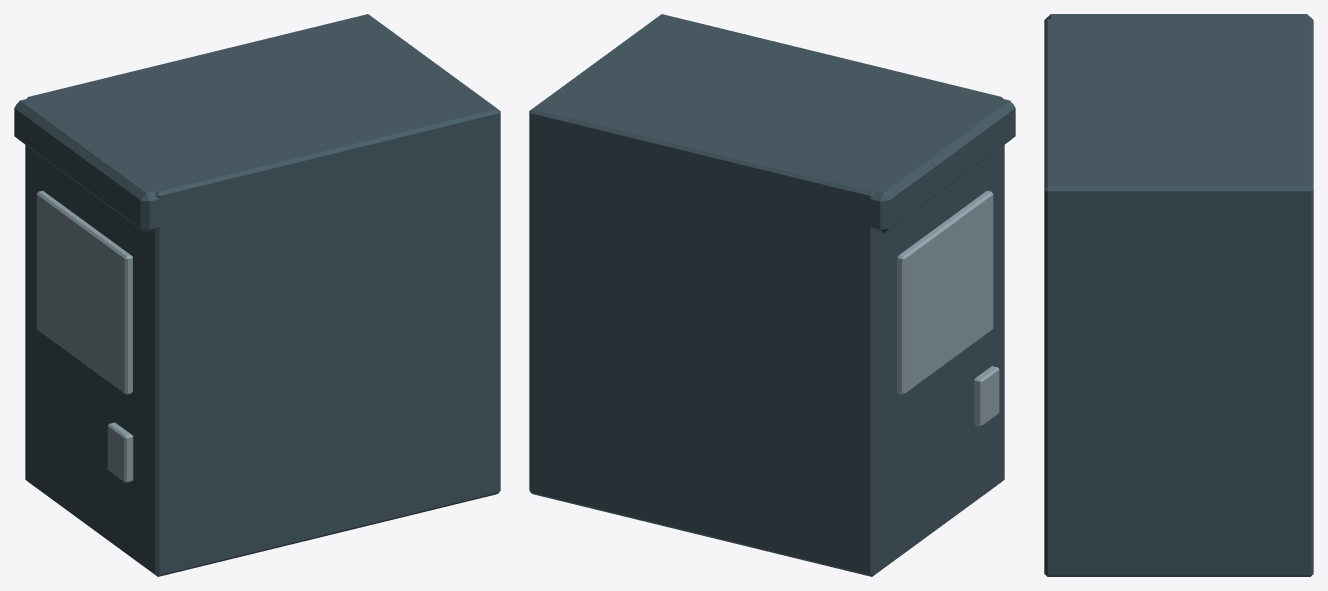
Rendered from pupitre_perimetre.glb.
3 renders of one model, left to right at view 1: azimuth 30°, elevation 25°; view 2: azimuth 150°, elevation 25°; view 3: azimuth 270°, elevation 25°, orthographic.
Parts seen in each view (by area): view 1: pupitre_perimetre; view 2: pupitre_perimetre; view 3: pupitre_perimetre.
Boxes of the visible parts, x1,y1,x2,y2 form: pupitre_perimetre: [14, 14, 500, 576]; pupitre_perimetre: [529, 14, 1015, 576]; pupitre_perimetre: [1044, 14, 1313, 576].
Size of the model in its own units: 1.12 by 1.15 by 0.72.
1 material, 1 textured.
